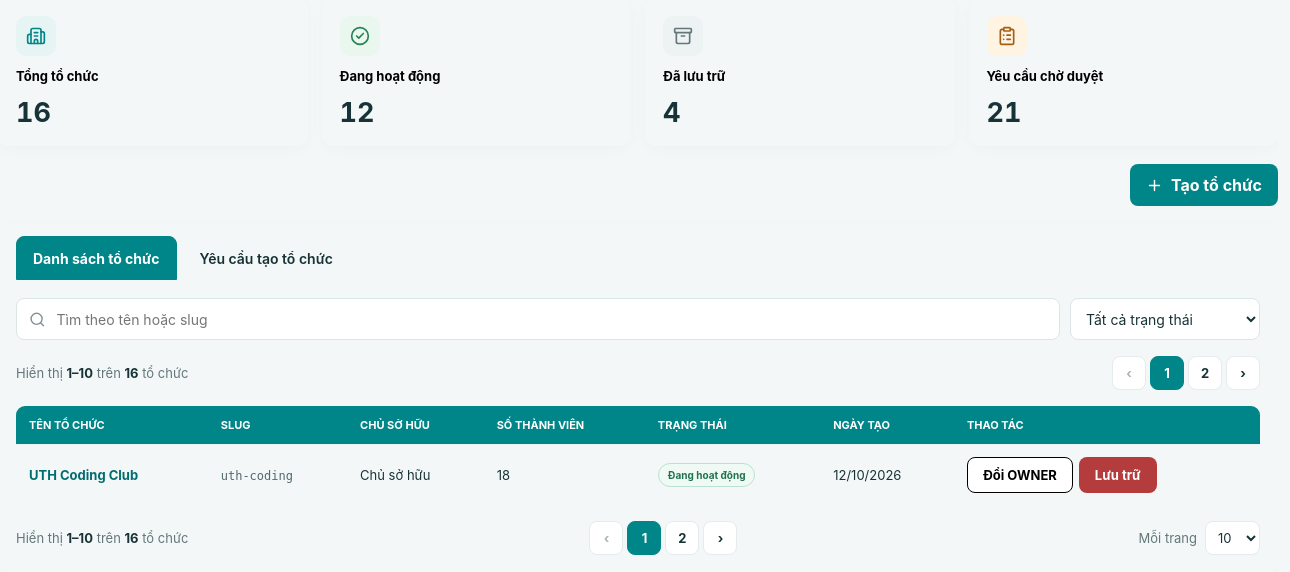
Test: AdminOrganizationsPage › keeps both tab states mounted and uses synchronized shared pagination
The image size is (1290, 572).
Later steps or results of the test are not shown.
Expected: the number of navigation bars is 2, 1112,356 -> 1260,390; 590,521 -> 738,555
Click the button named "Trang sau" at [1243, 373], box 1226,356 -> 1260,390
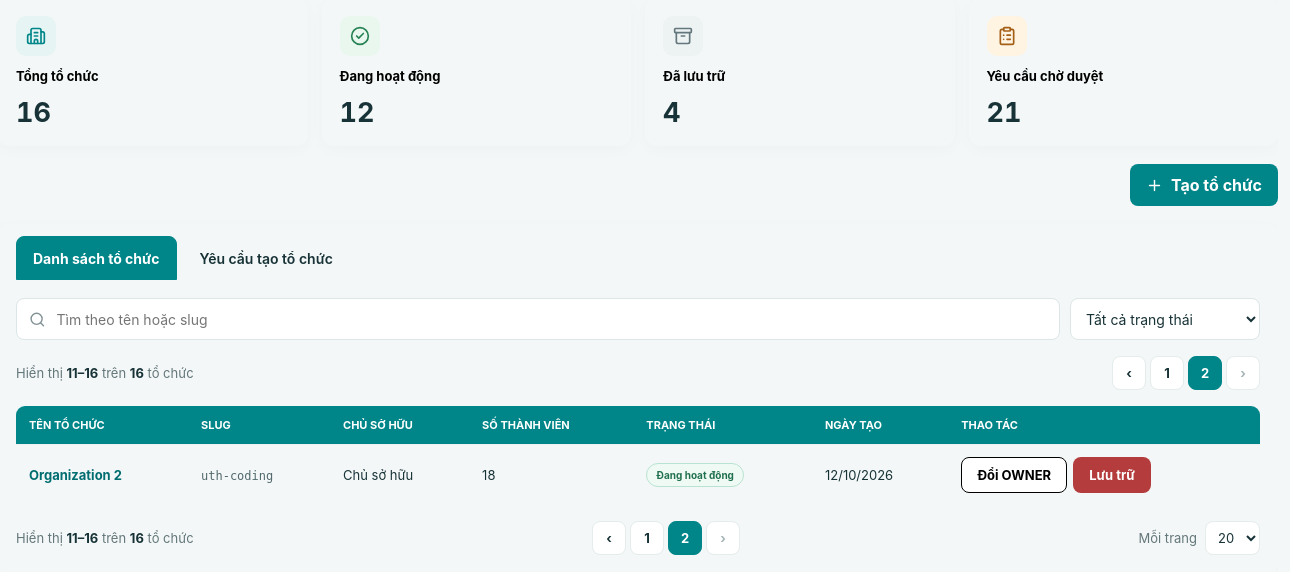
Expected: the number of navigation bars is 2, 1112,356 -> 1260,390; 592,521 -> 740,555
Expected: the 1st button "2" is shown, 1188,356 -> 1222,390
Select "20" in the dropdown labelled "Mỗi trang" at [1232, 538], box 1205,521 -> 1260,555
Select "20" in the dropdown labelled "Mỗi trang" at [1232, 538], box 1205,521 -> 1260,555
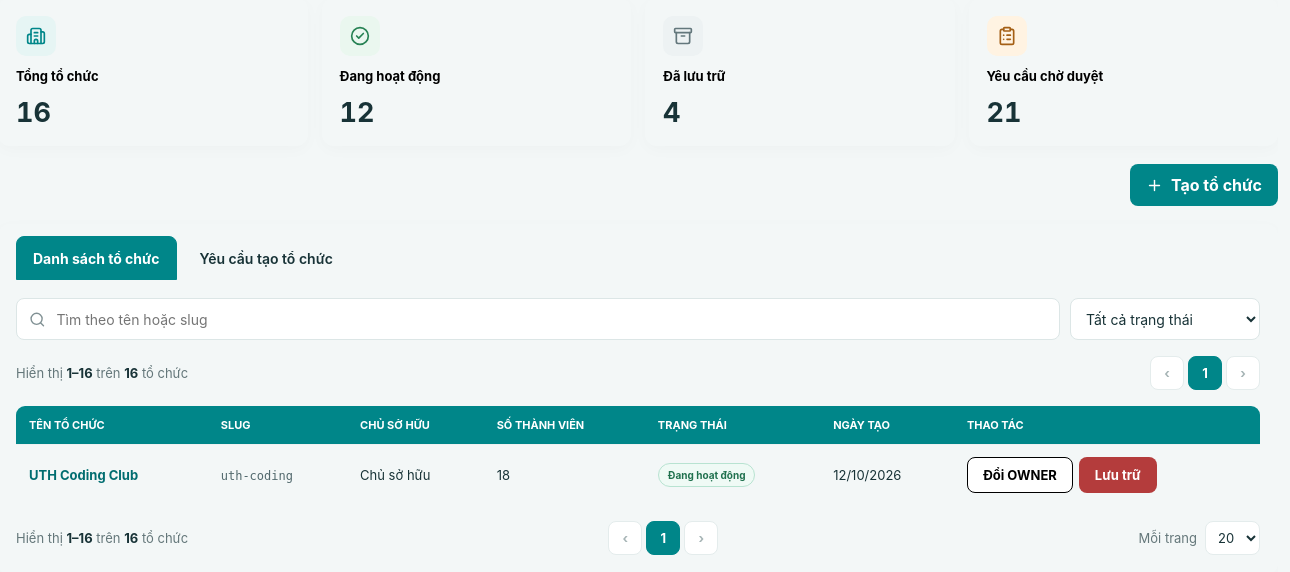
Click the tab "Yêu cầu tạo tổ chức" at [266, 258], box 182,236 -> 350,280
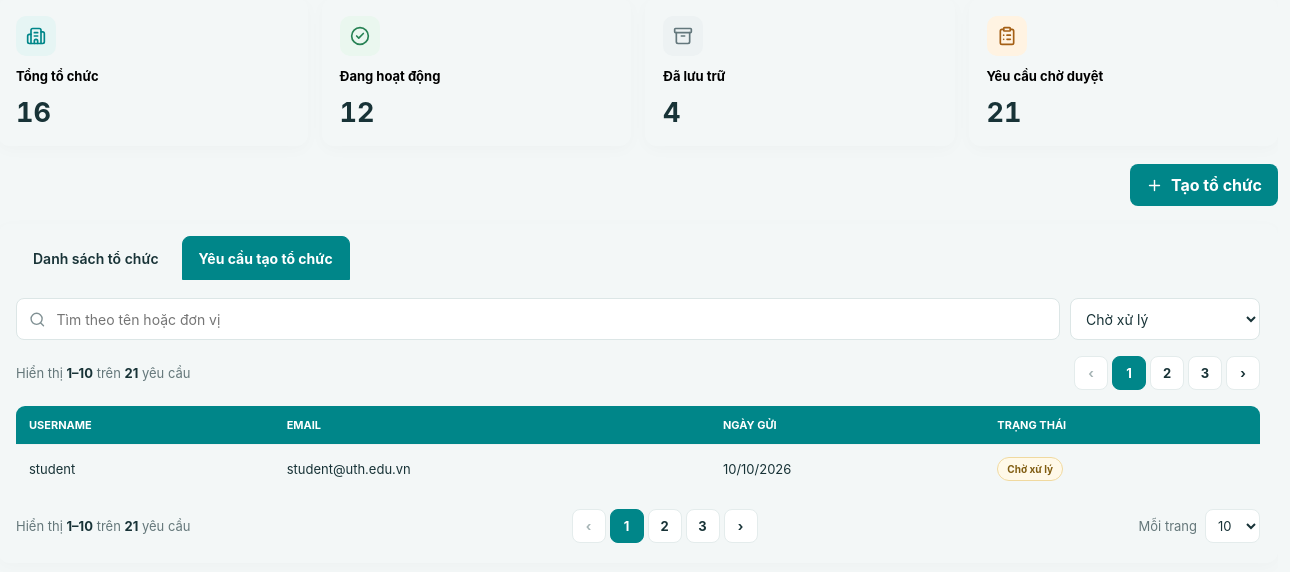
Click the button named "Trang sau" at [1243, 373], box 1226,356 -> 1260,390
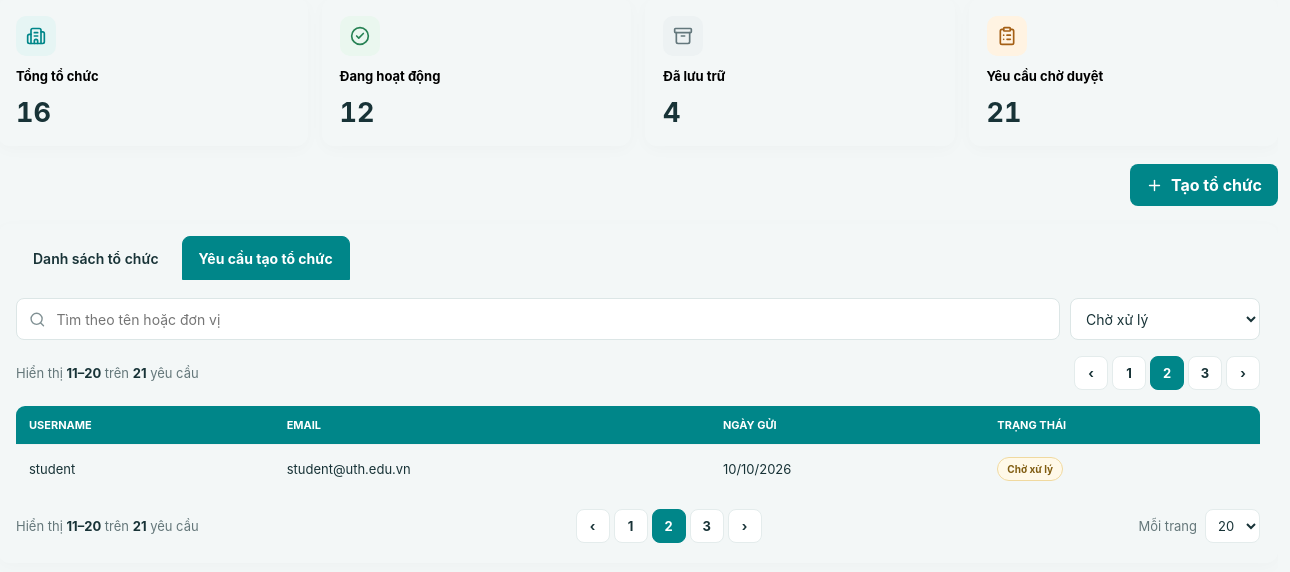
Now the 1st button "2" is shown, box 1150,356 -> 1184,390
Now the button "2" in the row of "Mỗi trang" is shown, box 652,509 -> 686,543
